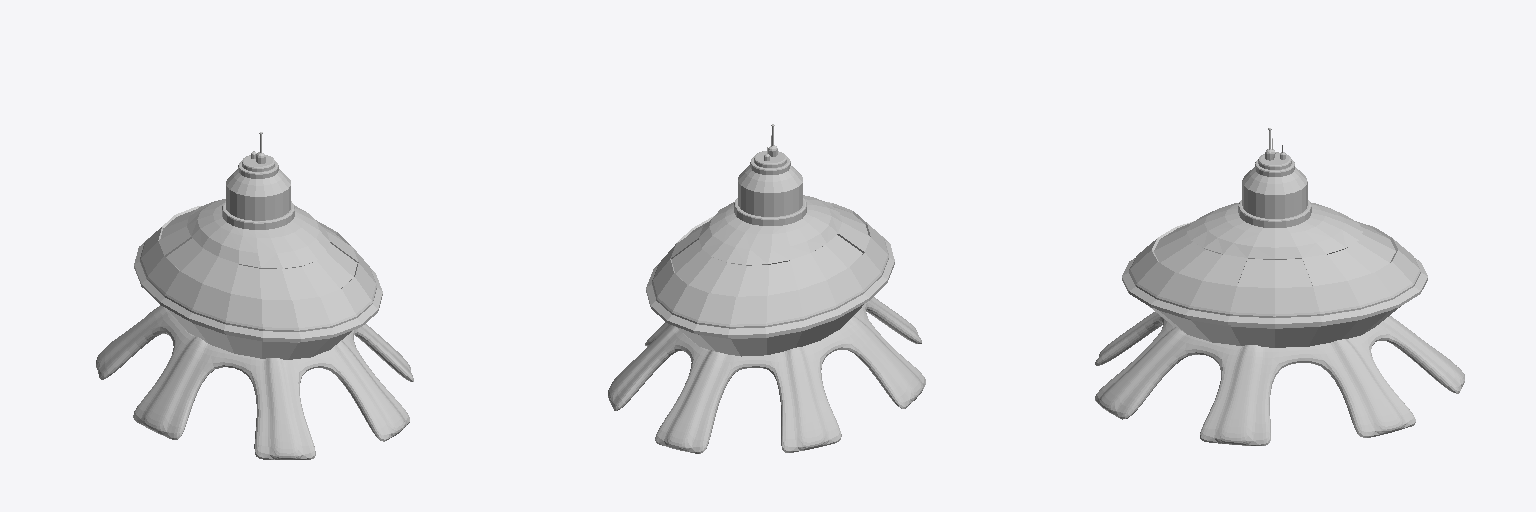
The model's file is building.obj.
3 views of the same model, side by side, from view 1: azimuth 30°, elevation 25°; view 2: azimuth 150°, elevation 25°; view 3: azimuth 270°, elevation 25° (orthographic).
Parts seen in each view (by area): view 1: Architecture_3; view 2: Architecture_3; view 3: Architecture_3.
Boxes of the visible parts, <box> form: Architecture_3: <box>96,132,413,459</box>; Architecture_3: <box>608,124,925,453</box>; Architecture_3: <box>1095,128,1464,445</box>.
Bounding box in the file's own units: 1.91 × 1.8 × 2.36.